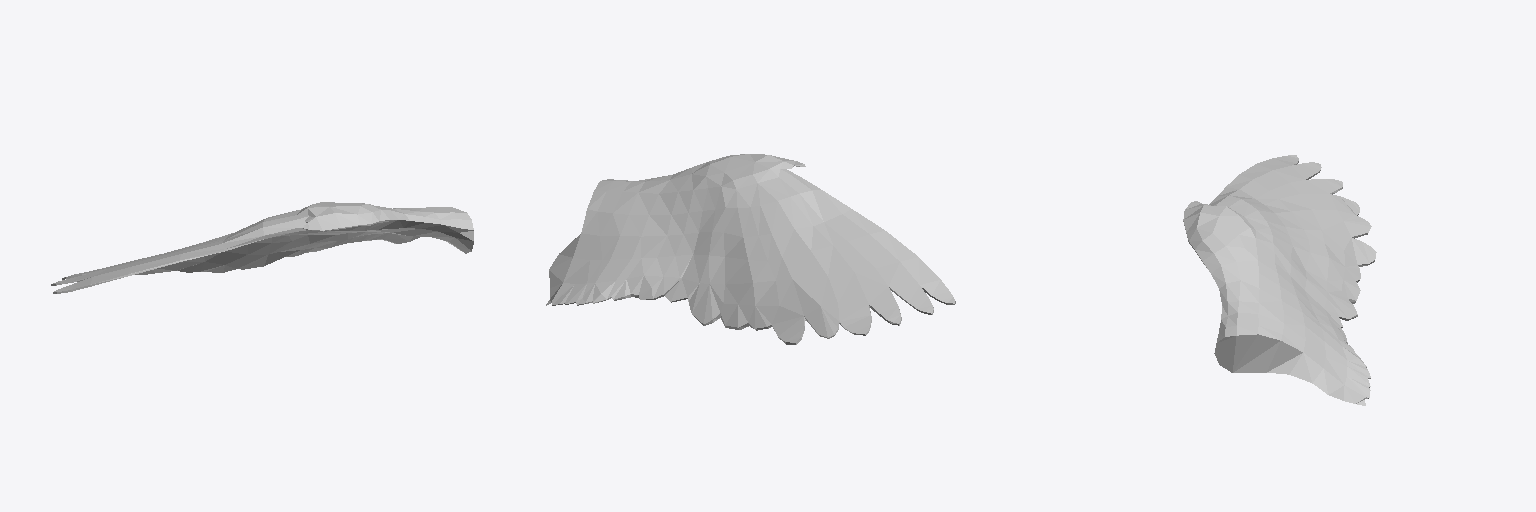
The model's file is alaizq.obj.
The picture shows the model from 3 angles: view 1: azimuth 30°, elevation 25°; view 2: azimuth 150°, elevation 25°; view 3: azimuth 270°, elevation 25°; orthographic projection.
Visible parts, largest first — view 1: alaizq; view 2: alaizq; view 3: alaizq.
Part boxes in pixels (x1,y1,x2,y2): alaizq: (51,202,473,293); alaizq: (546,154,955,344); alaizq: (1183,155,1376,405).
Size of the model in its own units: 1.75 by 0.5367 by 0.7515.